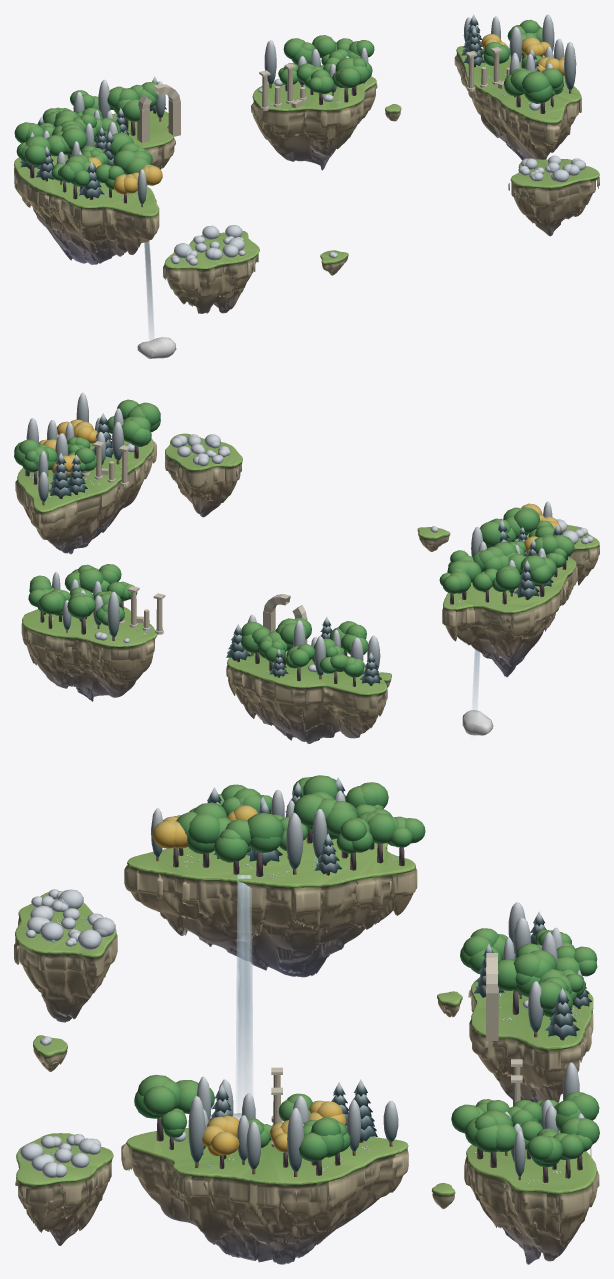
File: ruins.glb
3 renders of one model, top to bottom at view 1: azimuth 30°, elevation 25°; view 2: azimuth 150°, elevation 25°; view 3: azimuth 270°, elevation 25°, orthographic. The views are drawn at different scales.
Parts seen in each view (by area): view 1: decor_leaves, decor_m06, decor_m01, decor_m07, decor_m03, decor_m04, decor_solid, decor_m00, decor_trunks, clouds, waterfall, decor_s00; view 2: decor_leaves, decor_m00, decor_m01, decor_m06, decor_m07, decor_m04, decor_solid, decor_trunks, decor_m03, clouds, decor_s00; view 3: decor_leaves, decor_m06, decor_m07, decor_m01, decor_m00, decor_m03, decor_m04, waterfall, decor_trunks, decor_solid, decor_s00.
Part boxes in pixels (bbox=[...]): decor_leaves: bbox=[14, 14, 585, 265]; decor_m06: bbox=[14, 149, 159, 264]; decor_m01: bbox=[251, 76, 377, 170]; decor_m07: bbox=[454, 46, 581, 160]; decor_m03: bbox=[163, 231, 259, 313]; decor_m04: bbox=[508, 159, 599, 236]; decor_solid: bbox=[137, 47, 509, 142]; decor_m00: bbox=[94, 110, 175, 185]; decor_trunks: bbox=[30, 55, 571, 207]; clouds: bbox=[137, 337, 176, 358]; waterfall: bbox=[144, 241, 153, 339]; decor_s00: bbox=[320, 250, 348, 275]; decor_leaves: bbox=[14, 392, 593, 684]; decor_m00: bbox=[226, 651, 387, 743]; decor_m01: bbox=[21, 607, 157, 701]; decor_m06: bbox=[442, 534, 577, 677]; decor_m07: bbox=[15, 438, 156, 554]; decor_m04: bbox=[165, 433, 242, 517]; decor_solid: bbox=[82, 441, 307, 643]; decor_trunks: bbox=[25, 446, 566, 686]; decor_m03: bbox=[526, 524, 599, 585]; clouds: bbox=[462, 710, 493, 735]; decor_s00: bbox=[417, 527, 450, 551]; decor_leaves: bbox=[20, 775, 599, 1177]; decor_m06: bbox=[124, 837, 417, 977]; decor_m07: bbox=[121, 1128, 408, 1264]; decor_m01: bbox=[464, 1130, 599, 1264]; decor_m00: bbox=[468, 955, 593, 1102]; decor_m03: bbox=[14, 892, 117, 1022]; decor_m04: bbox=[15, 1133, 113, 1245]; waterfall: bbox=[236, 875, 252, 1116]; decor_trunks: bbox=[156, 829, 582, 1182]; decor_solid: bbox=[271, 953, 522, 1147]; decor_s00: bbox=[33, 1035, 67, 1071].
Size of the model in its own units: 35.55 by 15.06 by 24.52.
